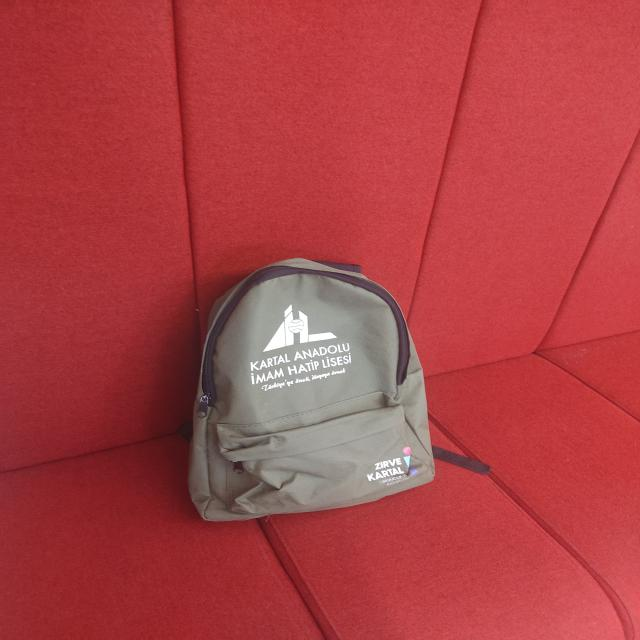bag: (191, 269, 438, 520)
